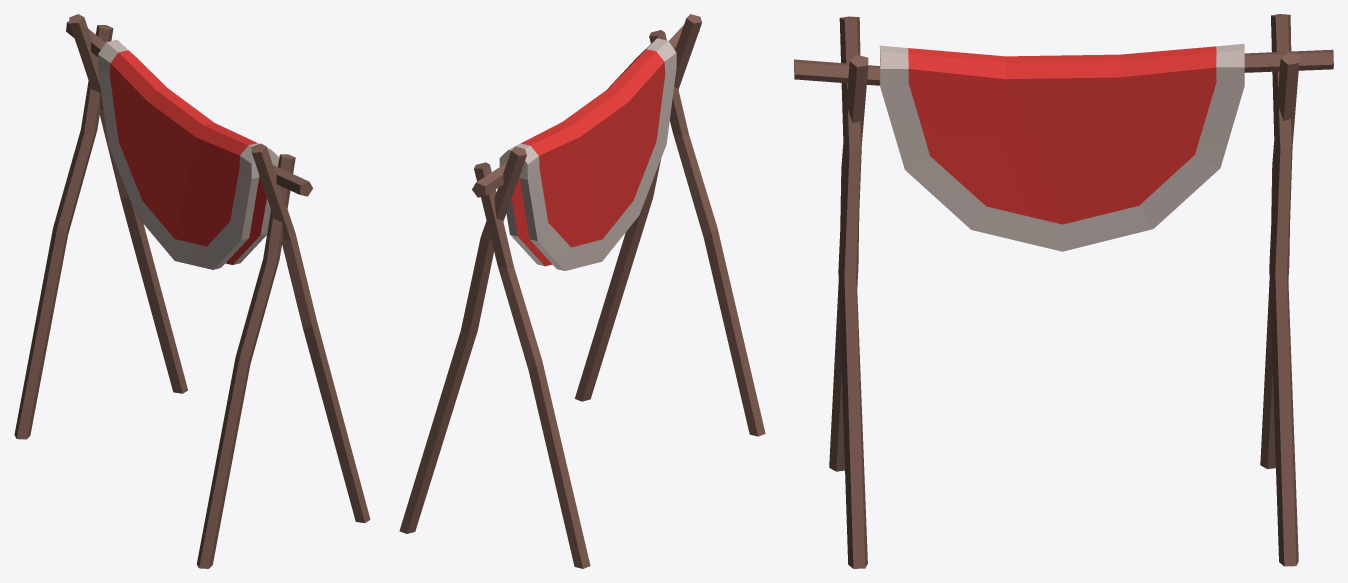
The model's file is holder.glb.
The picture shows the model from 3 angles, left to right: view 1: azimuth 30°, elevation 25°; view 2: azimuth 150°, elevation 25°; view 3: azimuth 270°, elevation 25°; orthographic projection. The views are drawn at different scales.
Parts seen in each view (by area): view 1: holder_001.002; view 2: holder_001.002; view 3: holder_001.002.
Part boxes in pixels (bbox=[...]): holder_001.002: bbox=[14, 14, 370, 568]; holder_001.002: bbox=[399, 14, 765, 568]; holder_001.002: bbox=[794, 14, 1333, 568].
Size of the model in its own units: 0.9564 by 2.01 by 2.02.
1 material, 1 textured.
